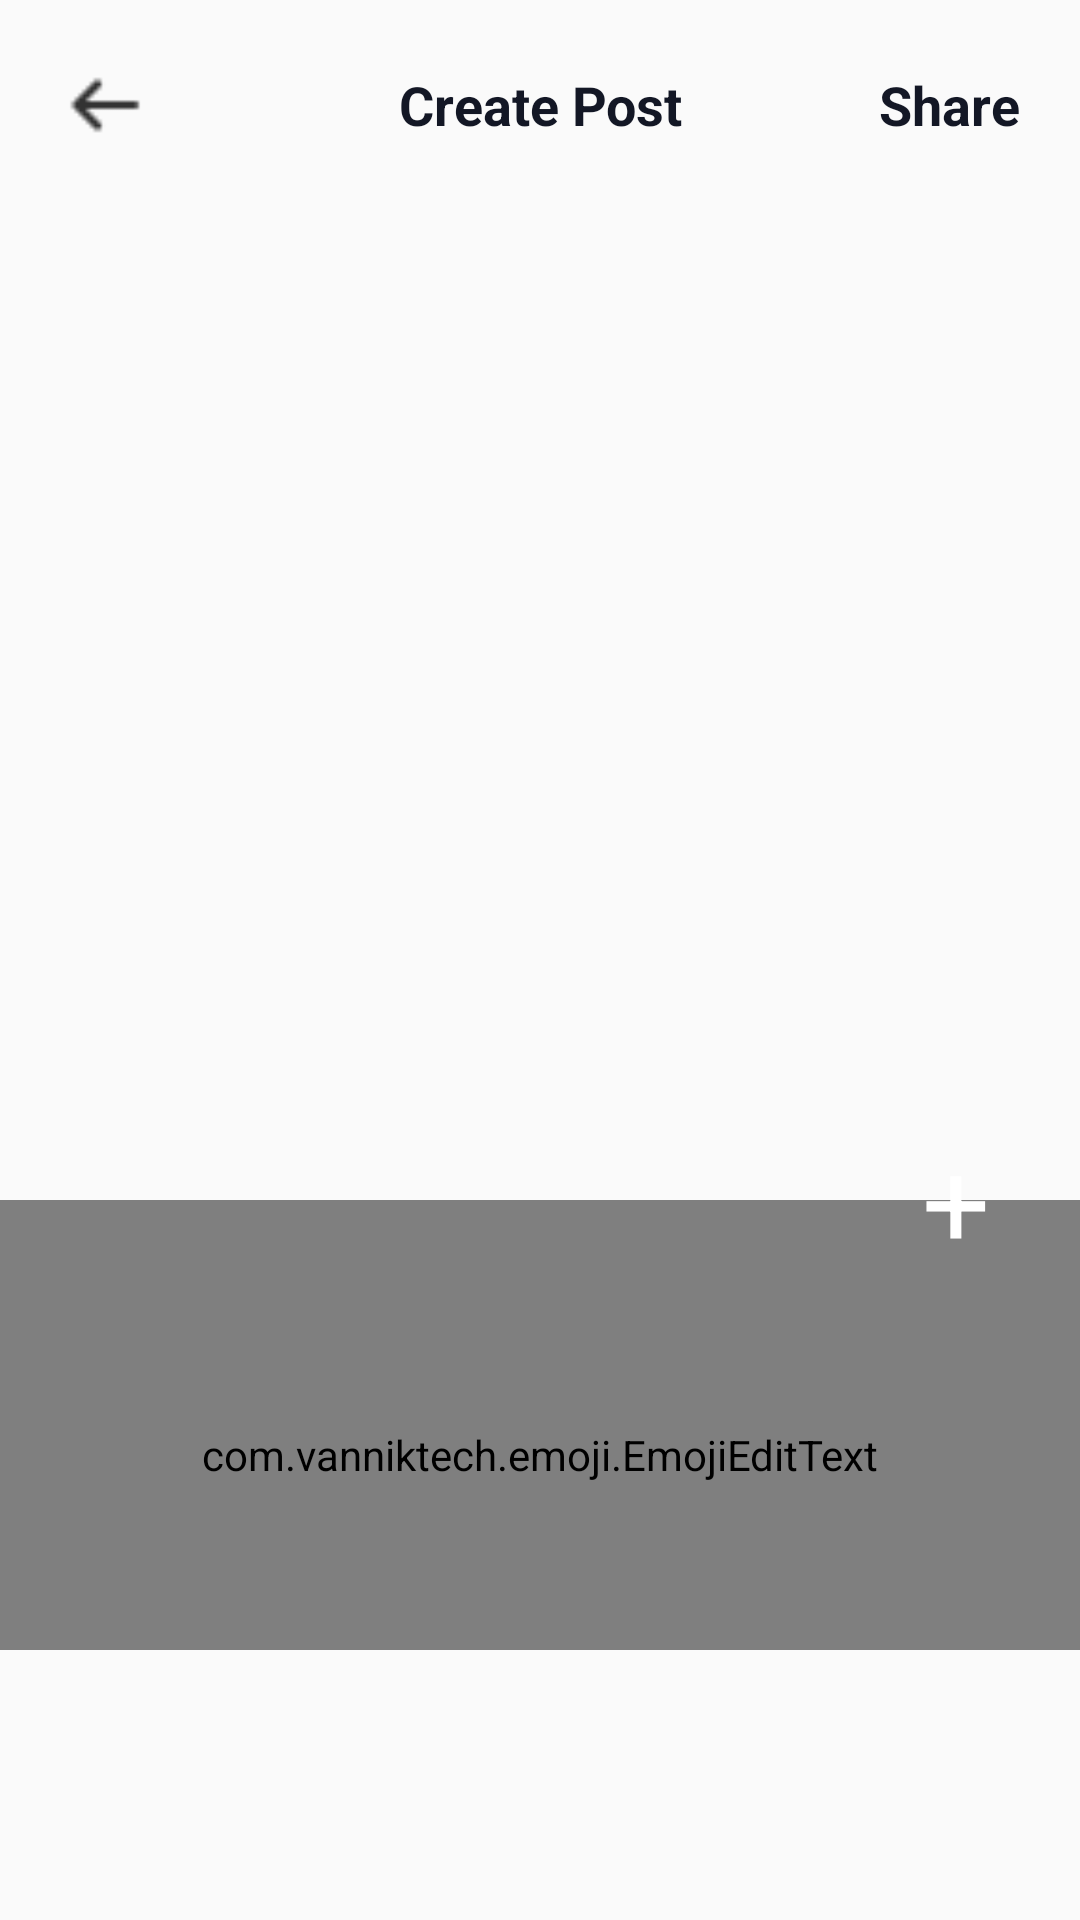

Where icons sit on this 1080×1920 app screen, as bbox(x1, y1, x2, y2):
Back Icon: bbox(70, 78, 140, 132)
